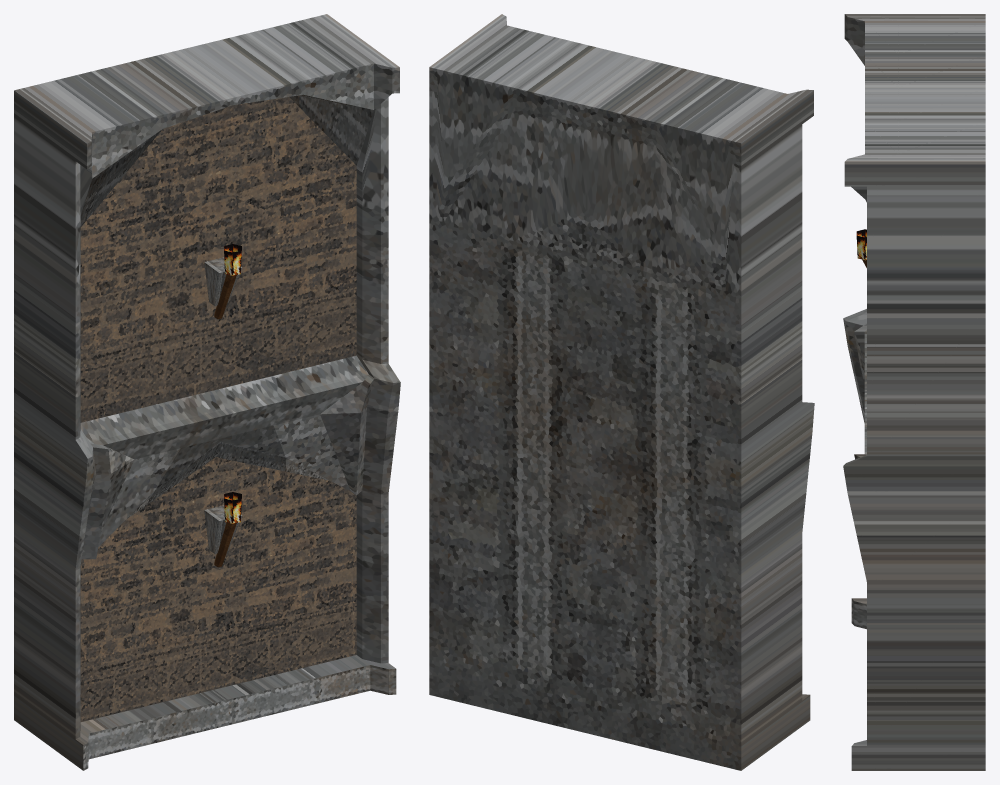
Rendered from SM_Wall.fbx.
3 renders of one model, left to right at view 1: azimuth 30°, elevation 25°; view 2: azimuth 150°, elevation 25°; view 3: azimuth 270°, elevation 25°, orthographic. The views are drawn at different scales.
Parts seen in each view (by area): view 1: SM_wall; view 2: SM_wall; view 3: SM_wall.
Part boxes in pixels (box(x1,y1,x2,y2)): SM_wall: box(14, 14, 400, 770); SM_wall: box(429, 14, 814, 770); SM_wall: box(843, 14, 985, 770).
Size of the model in its own units: 400 by 769 by 163.
